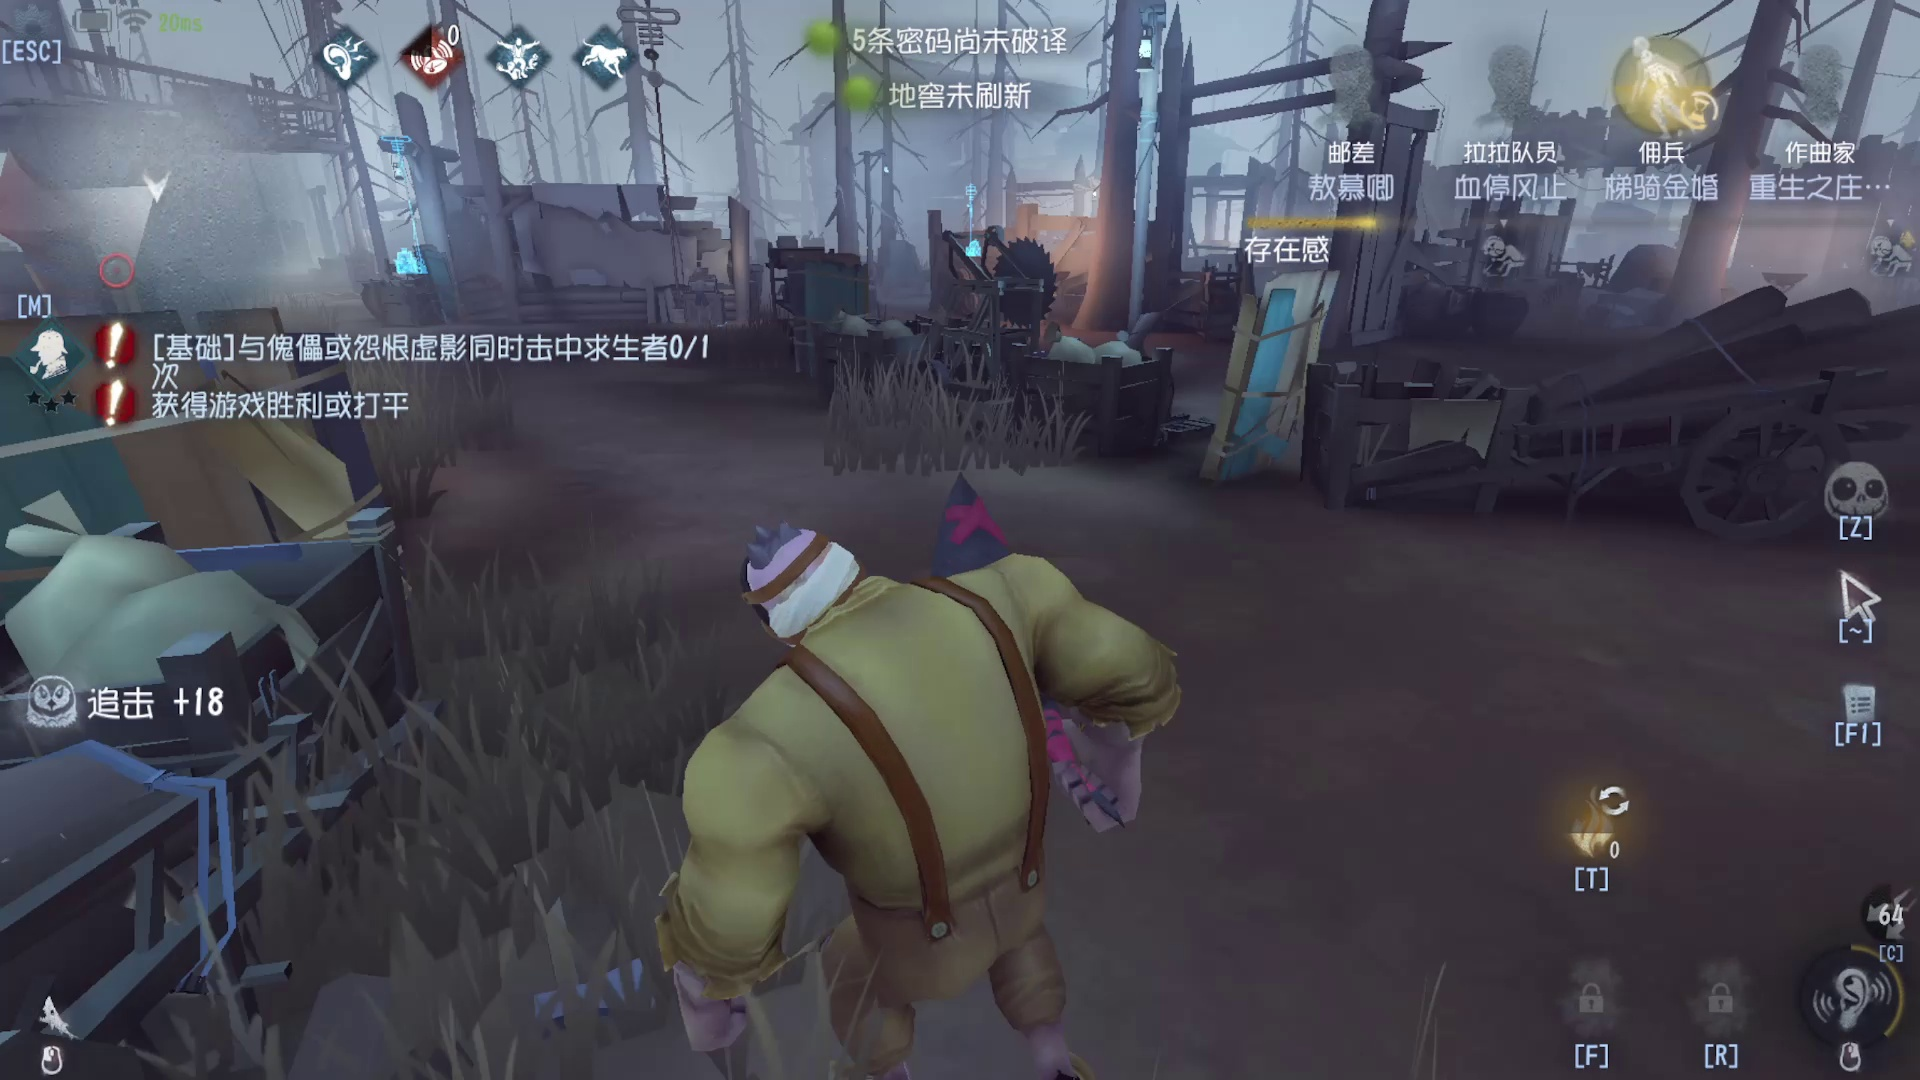密码机: (342, 104, 469, 306), (951, 164, 1000, 280)
木板: (1, 293, 527, 615), (777, 249, 866, 375)
狂欢之椅: (1179, 247, 1345, 498)
